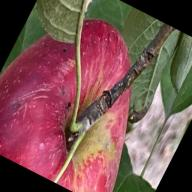Apples: (0, 0, 182, 192)
